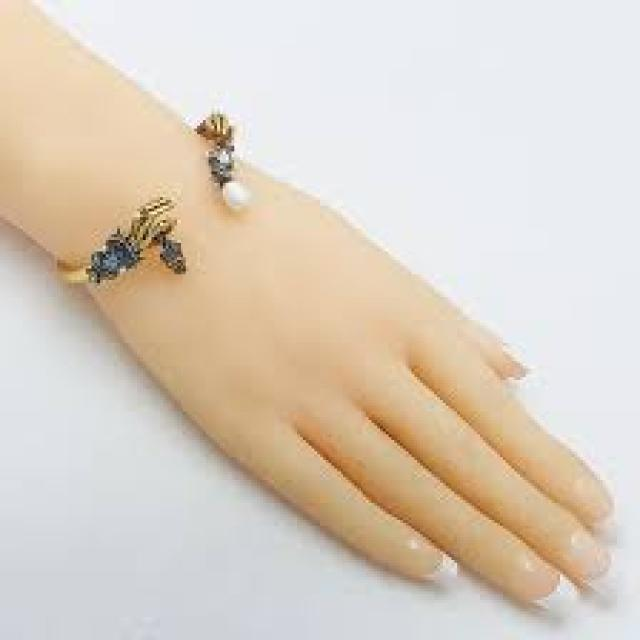Nail: (571, 476, 632, 549), (517, 552, 579, 616), (558, 533, 618, 598), (378, 536, 457, 582), (500, 343, 531, 379)
